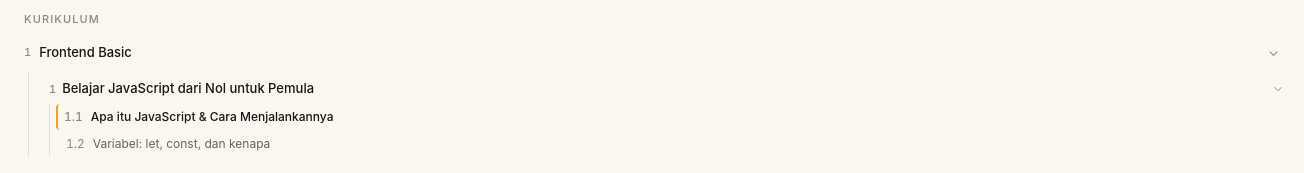
it: SidebarNav › lets the user collapse the category that is currently active
The image size is (1304, 173).
Expected: the link "Belajar JavaScript dari Nol untuk Pemula" is shown, [49,80,314,96]
What coordinates should you click on to do the following:
click the button "1 Frontend Basic"
I would click on:
 (86, 52)
Its box is [12,35,1292,71].
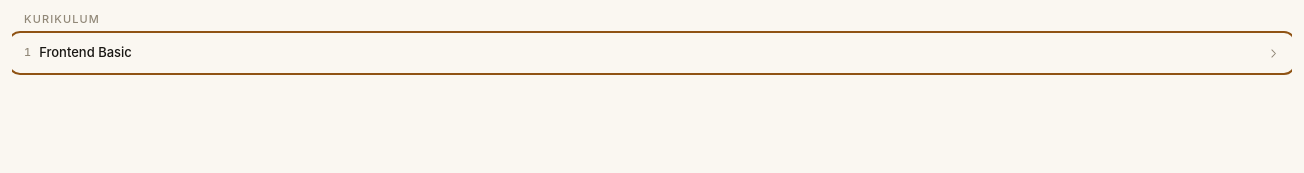
Expected: the link "Belajar JavaScript dari Nol untuk Pemula" is gone
